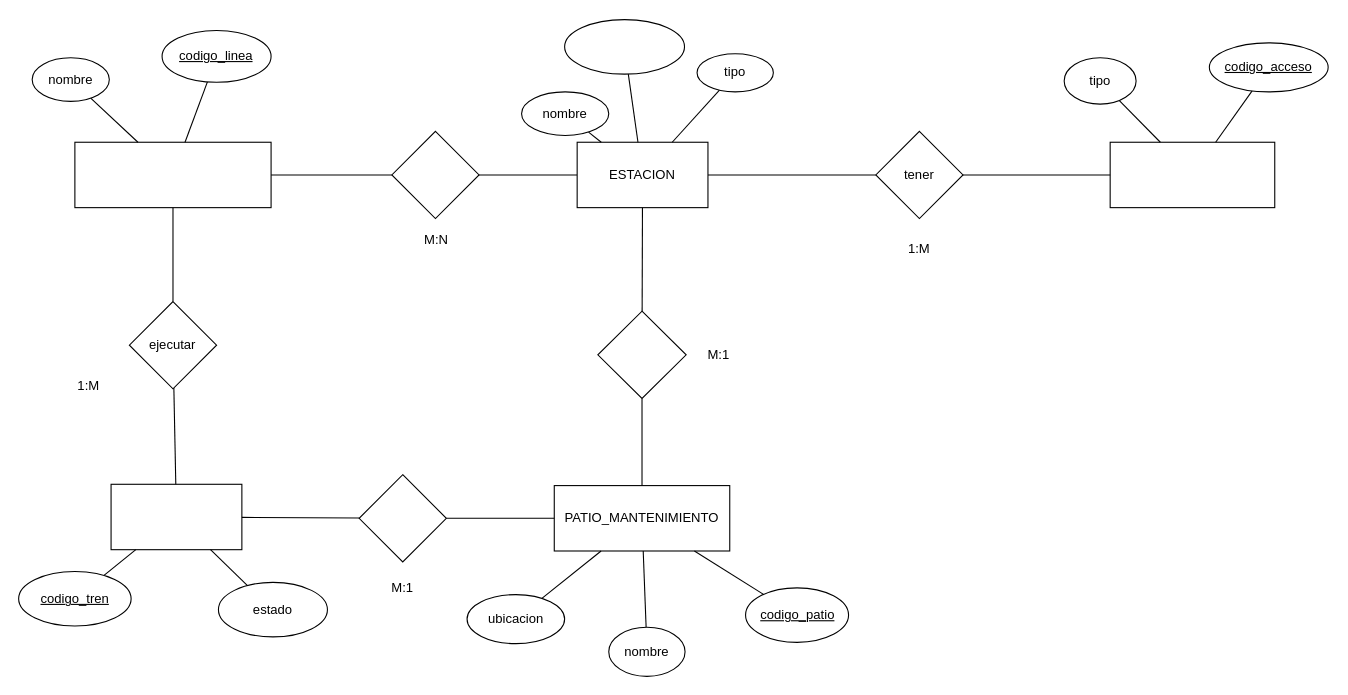
The diagram is 1348 pixels wide and 695 high, and some of its shapes have lost their labels. Each missing label, with the box of its shape:
ACCESO: (1109, 141, 1275, 208)
codigo_estacion: (564, 19, 685, 74)
componer: (391, 130, 479, 219)
corresponder: (597, 310, 686, 398)
LINEA: (74, 141, 271, 208)
resguardar: (358, 474, 446, 562)
TREN: (110, 483, 242, 550)
